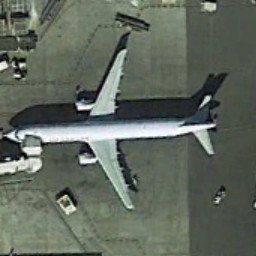Airplane: (1, 37, 228, 214)
